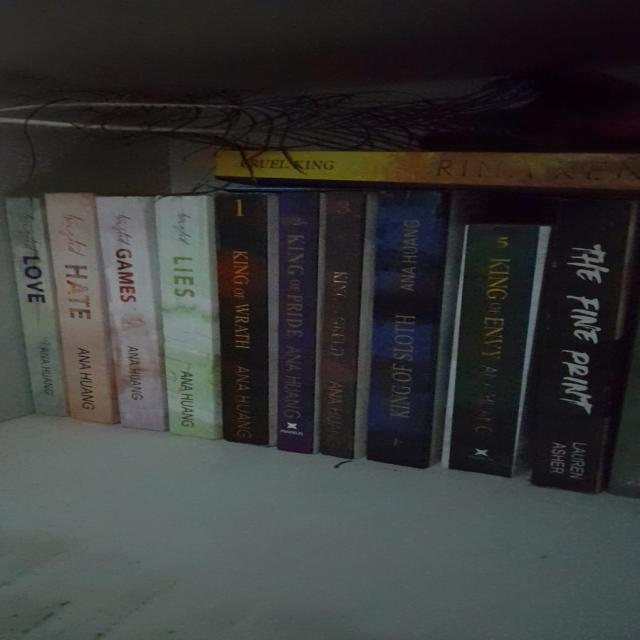book: (444, 220, 548, 476), (542, 240, 639, 492), (364, 190, 449, 466), (205, 180, 273, 454), (149, 198, 216, 438), (0, 194, 68, 423), (102, 197, 167, 436), (47, 190, 108, 425), (316, 192, 362, 454), (280, 190, 326, 450)
